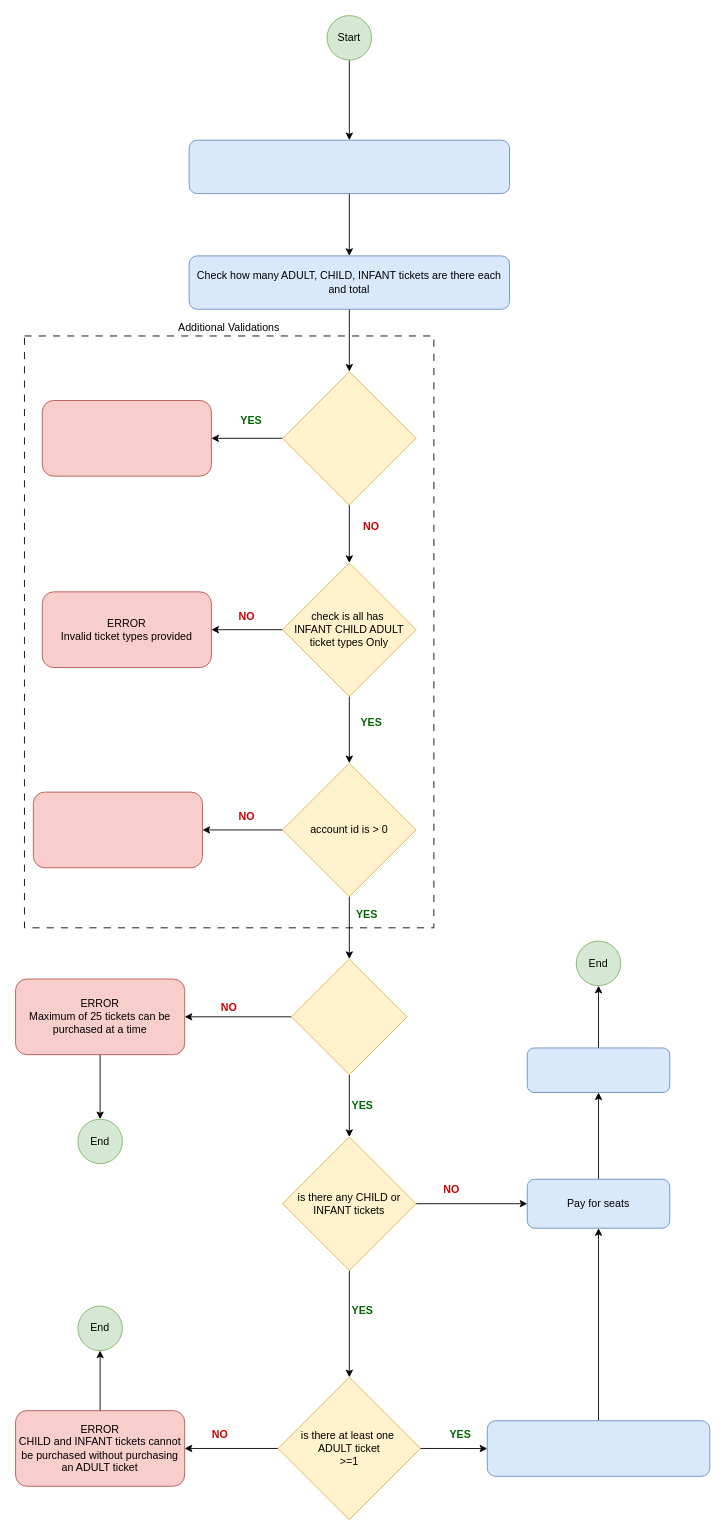
Some shapes in this 725 by 1535 pixel diagram are drawn without their labels. The shapes that lost their labels are listed below. From the top down, each one's centre as x and y in pixels, then its label:
point 349,166: Purchaser sends a request about how many tickets and types and account id
point 126,438: ERROR Invalid ticket request
point 349,438: Ticket count 0 or negative or null
point 117,829: ERROR Account cannot be zero or empty
point 349,1016: total tickets <= 25
point 598,1069: Allocating seats
point 598,1448: Calculating seat count INFANT should not allocate seat
